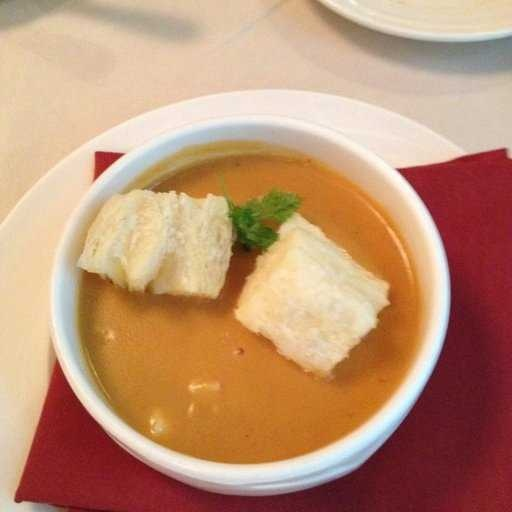soup: (70, 145, 405, 457)
